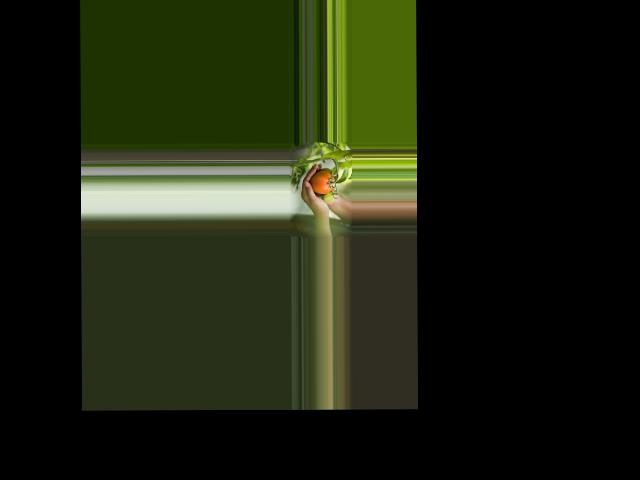tomato: (310, 171, 334, 194)
